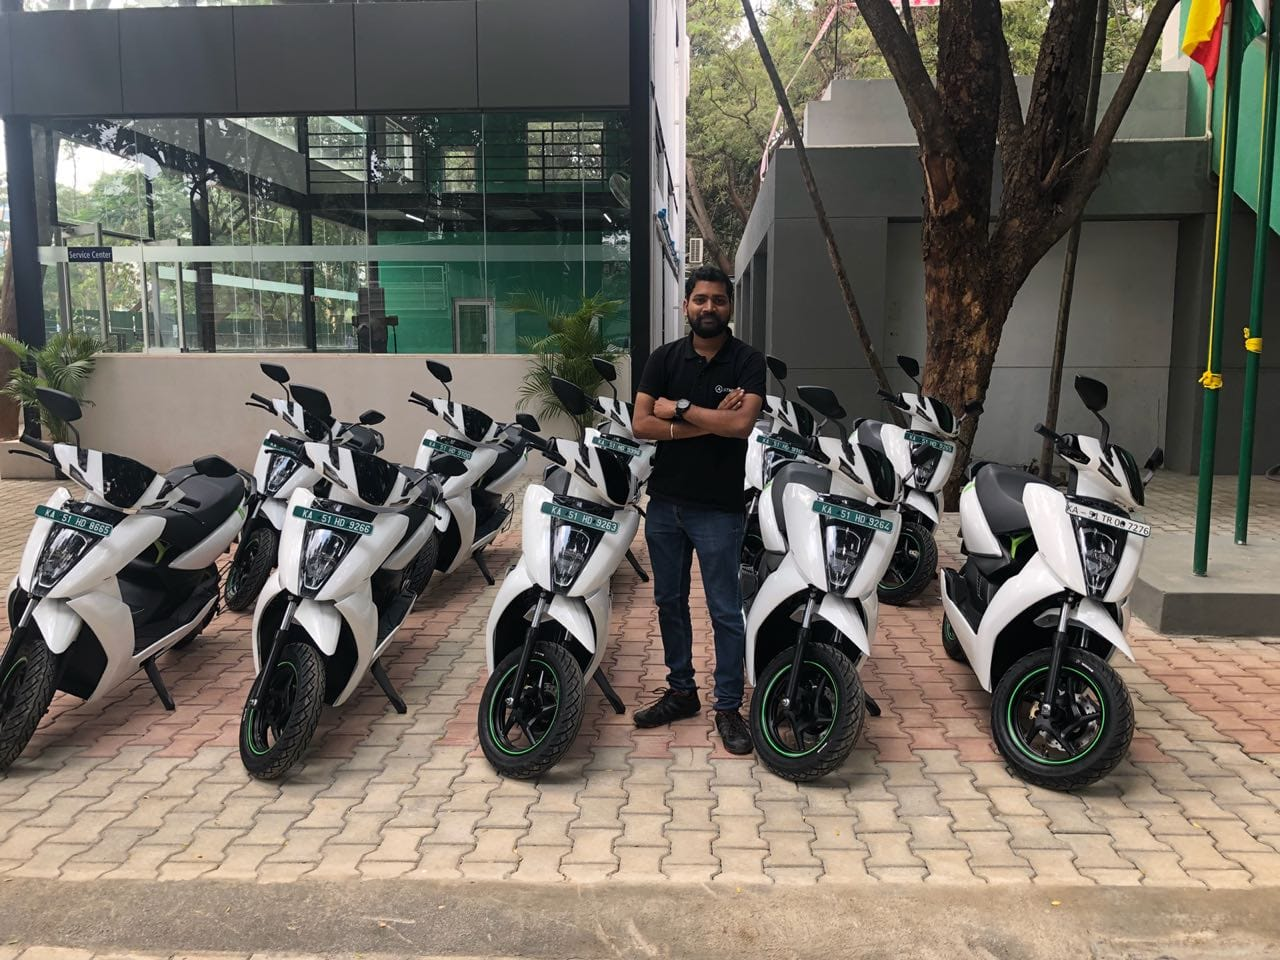number_plate: (1063, 495, 1158, 543), (809, 495, 901, 537), (34, 501, 118, 546), (289, 499, 376, 539), (540, 496, 623, 536), (901, 426, 963, 456), (589, 430, 645, 461), (421, 433, 477, 464)
